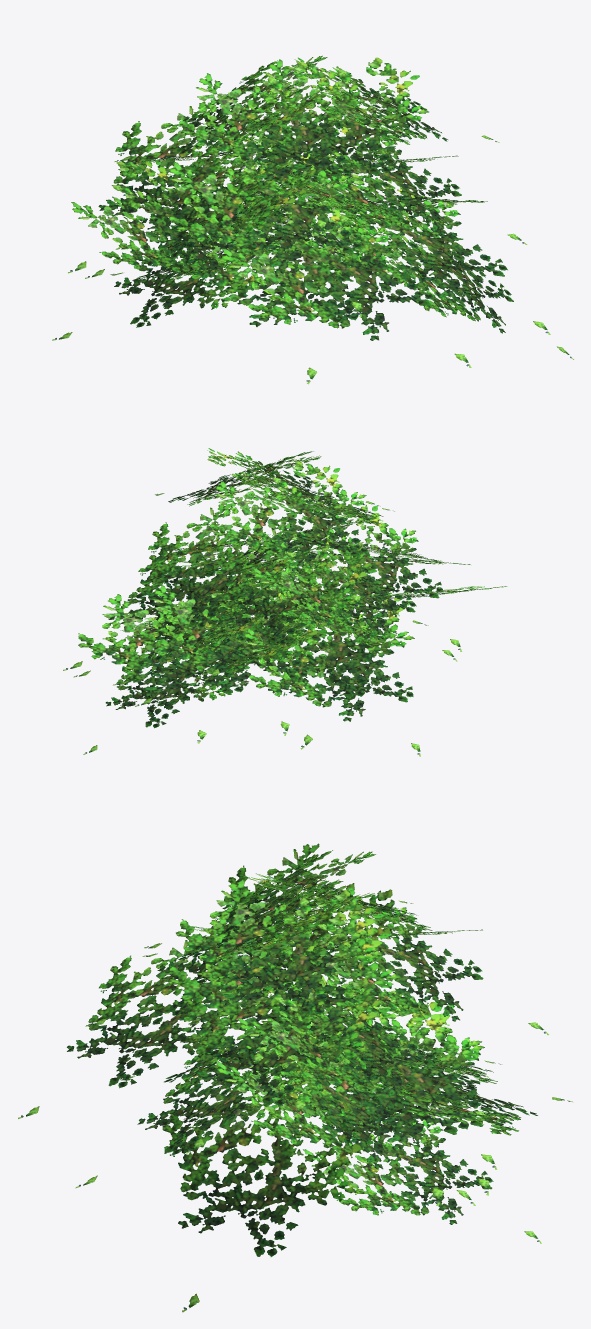
The model's file is tree_tropic_top_b.dae.
3 views of the same model, one above another, from view 1: azimuth 30°, elevation 25°; view 2: azimuth 150°, elevation 25°; view 3: azimuth 270°, elevation 25° (orthographic). The views are drawn at different scales.
Visible parts, largest first — view 1: tree_oak_top_a; view 2: tree_oak_top_a; view 3: tree_oak_top_a.
Boxes of the visible parts, x1,y1,x2,y2 form: tree_oak_top_a: (52,55,573,384); tree_oak_top_a: (63,448,507,756); tree_oak_top_a: (18,843,572,1312).
Size of the model in its own units: 23.98 by 19.9 by 12.63.
